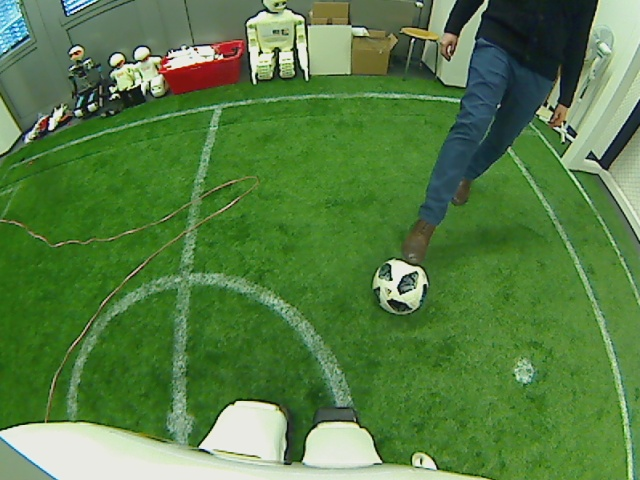ball: (370, 257, 430, 314)
